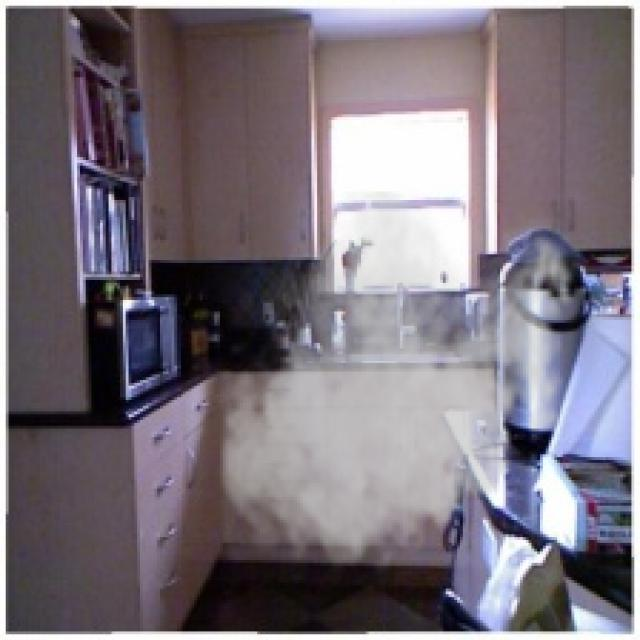Smoke: (211, 191, 586, 580)
